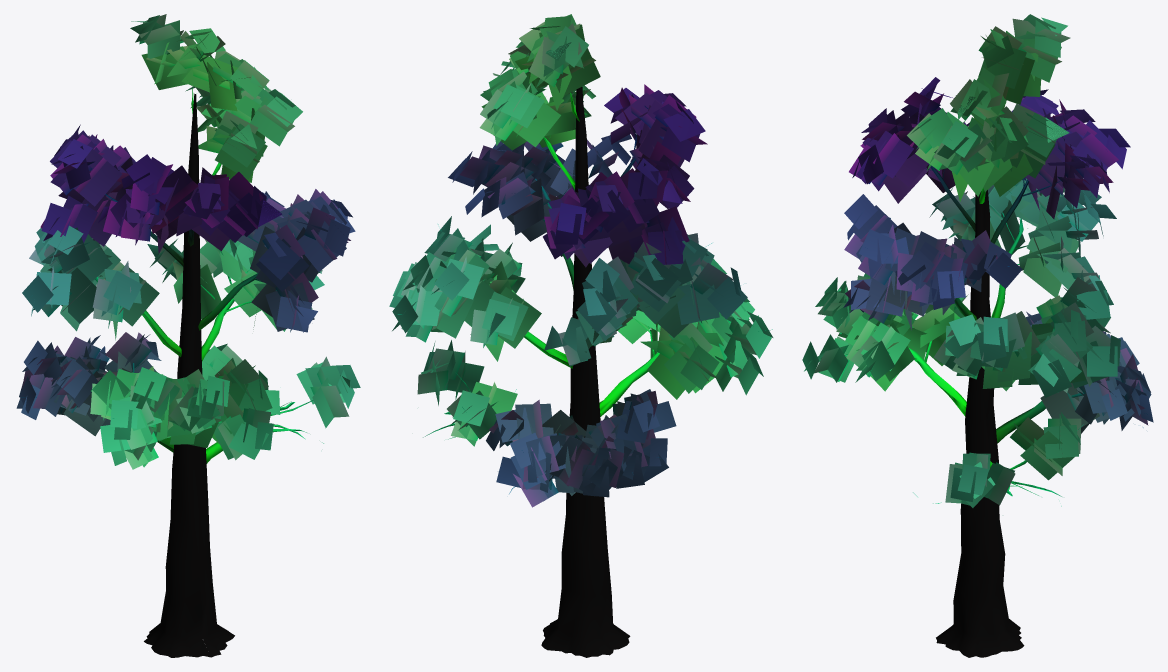
File: Tree_2.fbx
3 renders of one model, left to right at view 1: azimuth 30°, elevation 25°; view 2: azimuth 150°, elevation 25°; view 3: azimuth 270°, elevation 25°, orthographic. The views are drawn at different scales.
Parts seen in each view (by area): view 1: Tree_2; view 2: Tree_2; view 3: Tree_2.
Boxes of the visible parts, x1=… form: Tree_2: x1=16, y1=14, x2=360, y2=657; Tree_2: x1=389, y1=14, x2=773, y2=657; Tree_2: x1=802, y1=14, x2=1153, y2=657.
Size of the model in its own units: 440 by 804 by 411.
